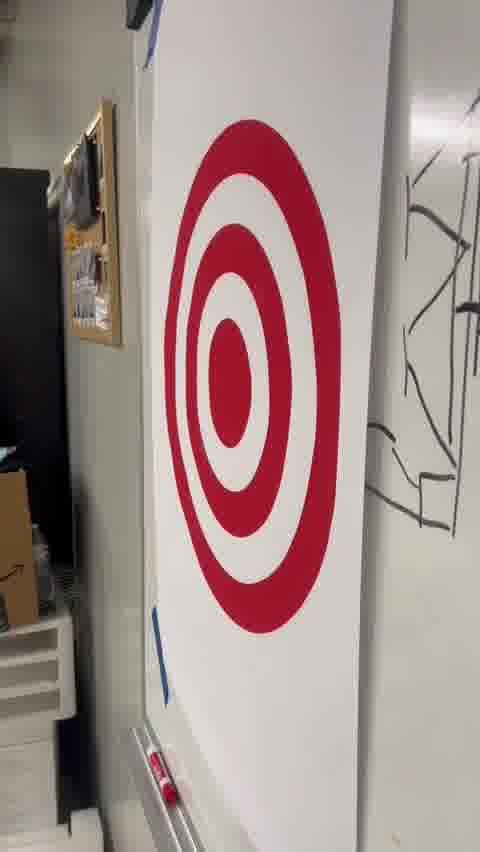target_red: (163, 119, 340, 633)
